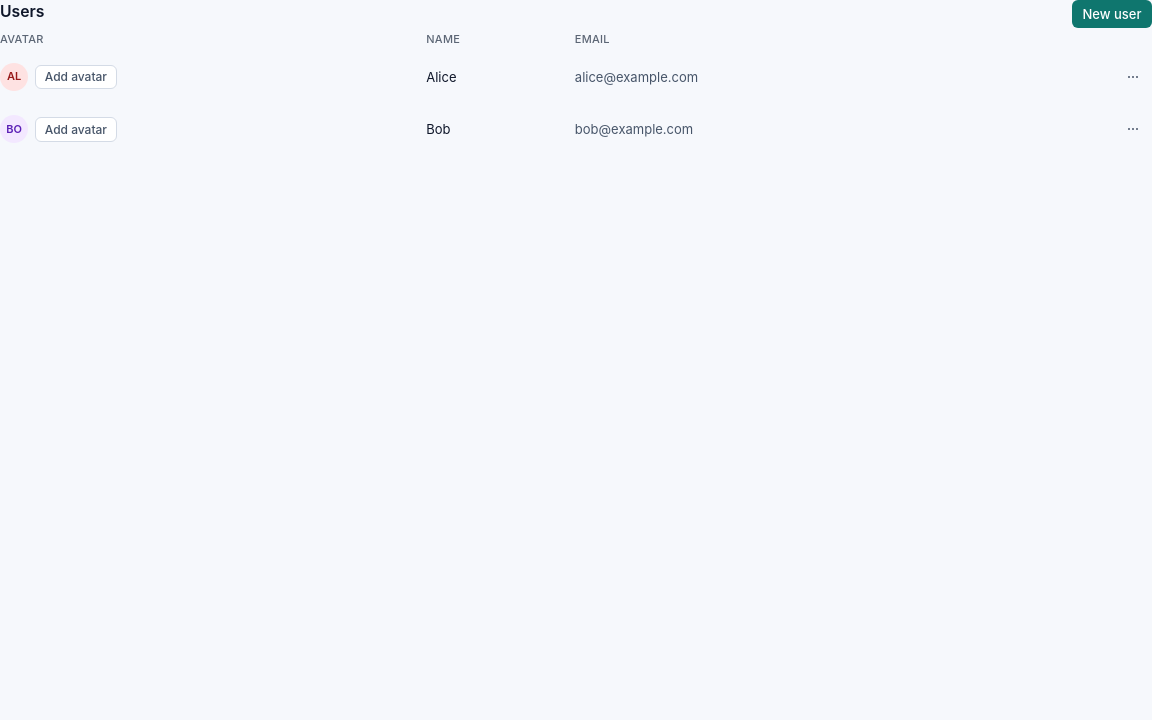
Scenario: UsersPanel Edit dialog (PRU-47) › keeps the dialog open with an anchored error when Save fails (SET-51)
Click the button named "Actions for user \"Alice\"" at point(1133, 77), box [1114,58,1151,96]
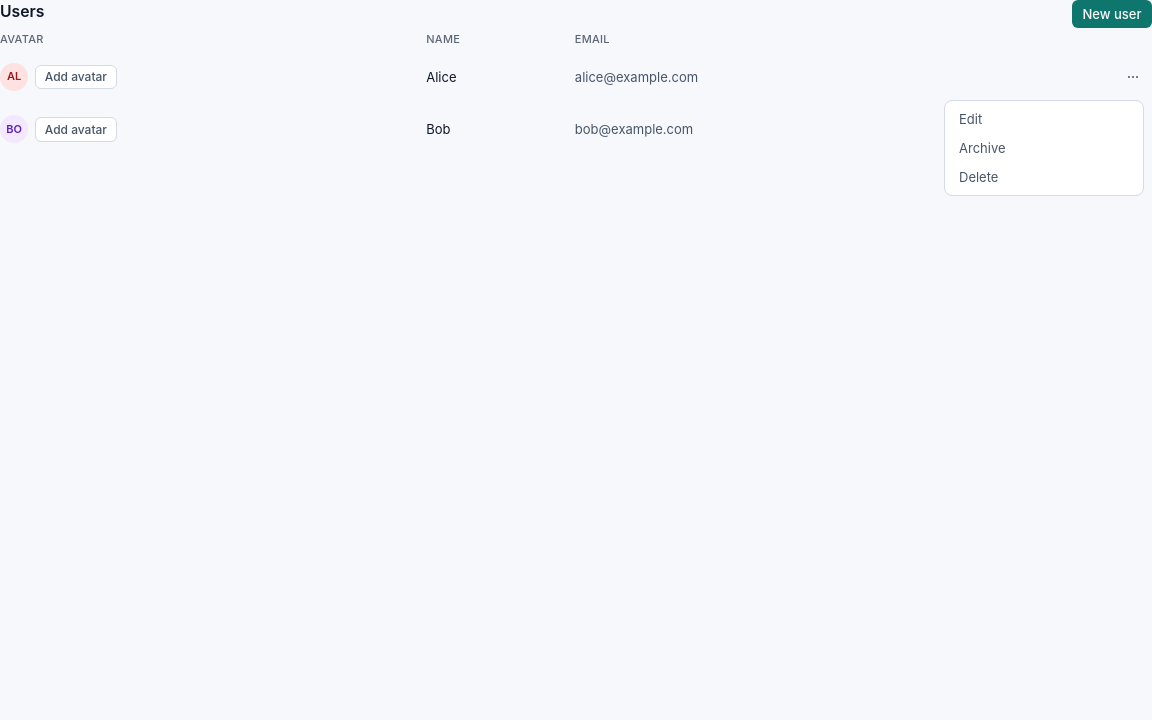
Click the menu item with test id "user-edit-u-alice" at point(1044, 119), box [948,105,1140,134]
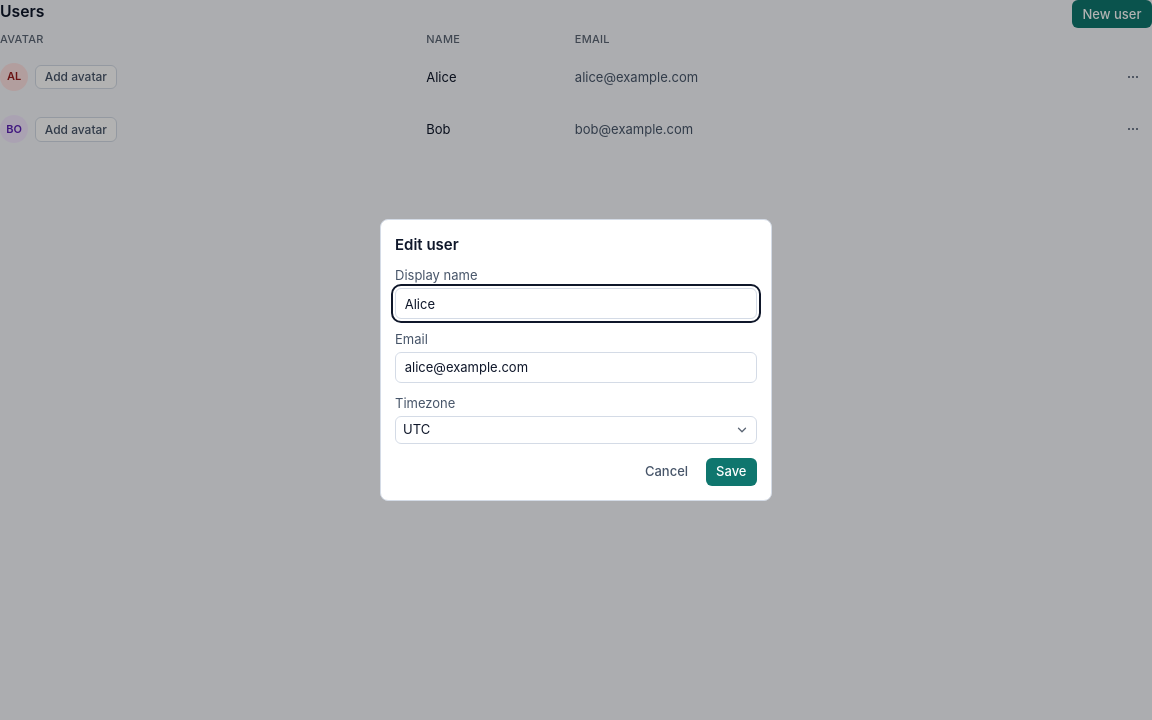
Expected: the element with test id "user-edit-dialog-u-alice" is shown, [395,266,757,486]
Replace the text in the field with test id "user-edit-email-u-alice" with "taken@example.com" at point(576, 368), box [395,352,757,383]
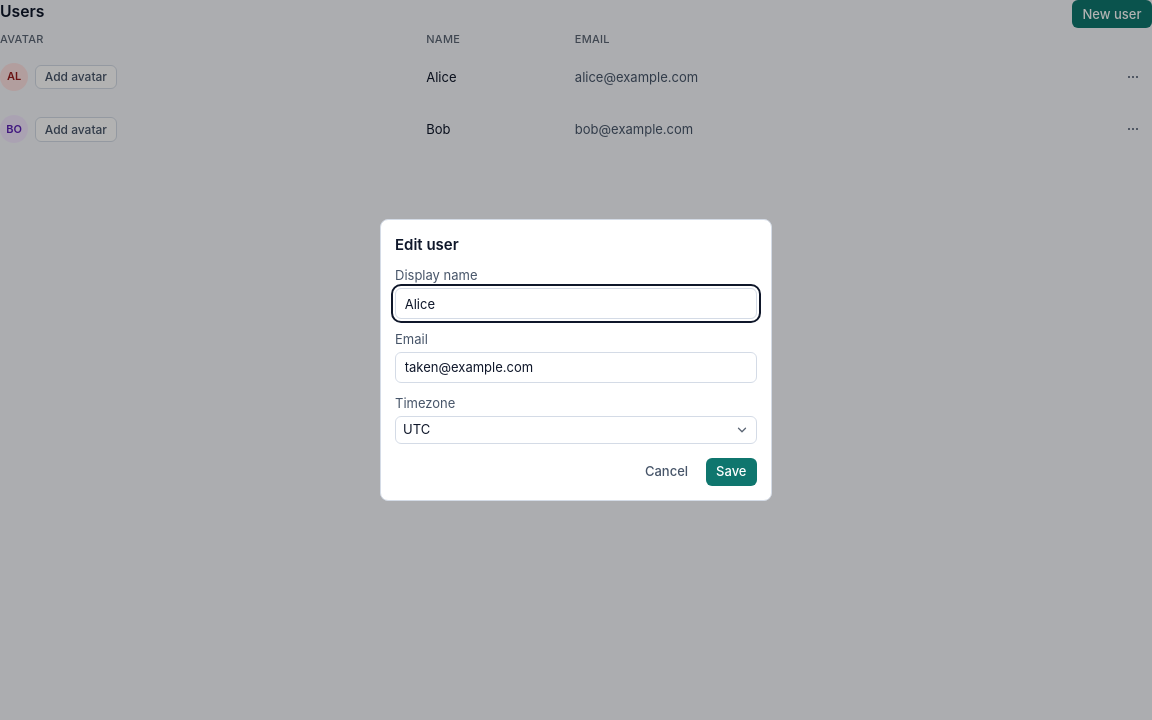
Click the button with test id "user-edit-save-u-alice" at point(731, 472), box [706,458,757,486]
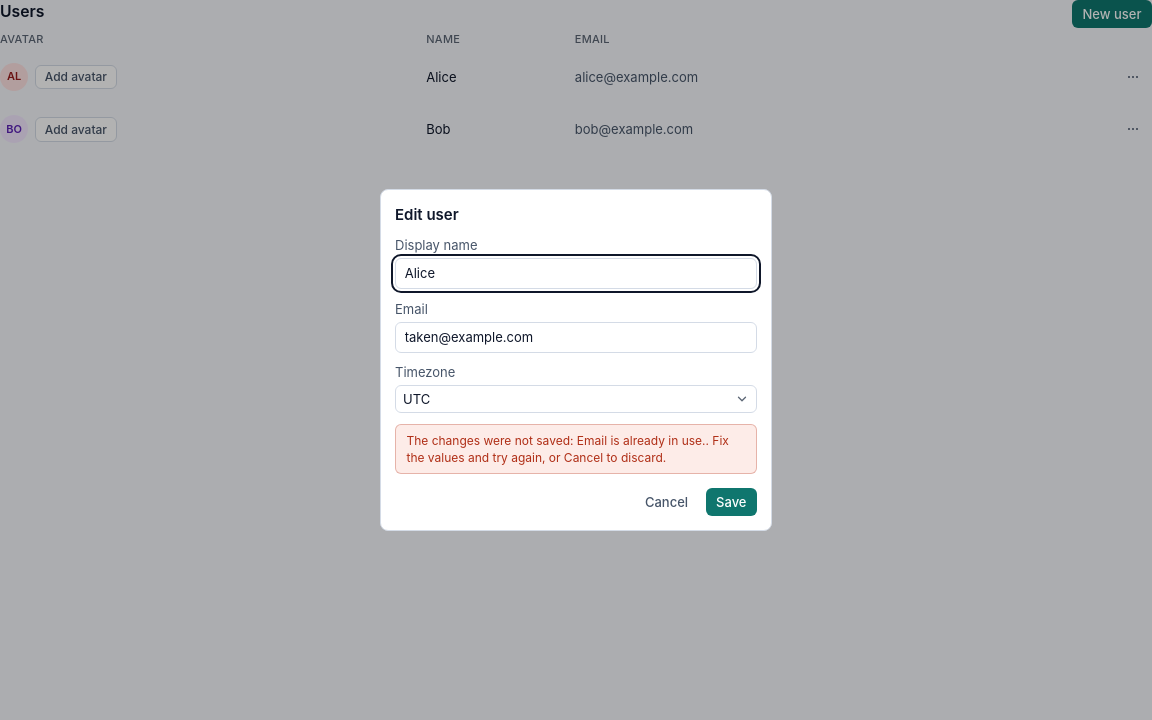
Expected: the element with test id "user-edit-dialog-u-alice" is shown, [395,236,757,516]
Expected: the message with test id "user-edit-error-u-alice" shows "Email is already in use.", [577,433,706,448]
